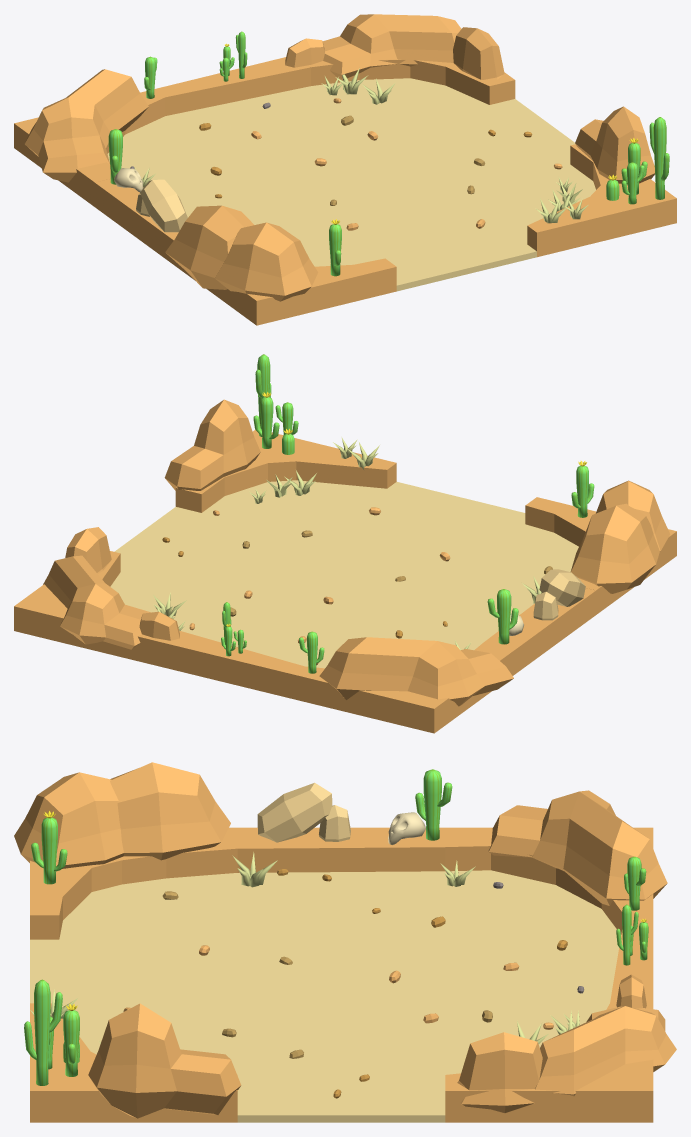
Rendered from desert level set - 2 Way (6).fbx.
3 renders of one model, top to bottom at view 1: azimuth 30°, elevation 25°; view 2: azimuth 150°, elevation 25°; view 3: azimuth 270°, elevation 25°, orthographic. The views are drawn at different scales.
Visible parts, largest first — view 1: land_platform_001, Cube_004, Cube_008, Cube_005, Cube_000, Cube_009, Cube_006, Cube_007, CACTUS_002, Cube_001, CACTUS_005, CACTUS_006 (+3 smaller); view 2: land_platform_001, Cube_004, Cube_000, Cube_008, Cube_009, Cube_005, Cube_007, Cube_006, CACTUS_006, Cube_001, CACTUS_001, CACTUS_005 (+2 smaller); view 3: land_platform_001, Cube_004, Cube_009, Cube_000, Cube_008, Cube_005, Cube_006, Cube_007, CACTUS_002, CACTUS_006, CACTUS_005, CACTUS_001 (+5 smaller).
Boxes of the visible parts, box(x1,y1,x2,y2) form: land_platform_001: box(14, 57, 676, 325); Cube_004: box(25, 69, 148, 182); Cube_008: box(322, 14, 461, 79); Cube_005: box(215, 222, 318, 301); Cube_000: box(165, 205, 254, 289); Cube_009: box(575, 106, 654, 183); Cube_006: box(453, 27, 504, 79); Cube_007: box(136, 179, 187, 232); CACTUS_002: box(649, 117, 669, 199); Cube_001: box(285, 38, 324, 67); CACTUS_005: box(329, 219, 341, 276); CACTUS_006: box(108, 129, 122, 184); land_platform_001: box(14, 429, 676, 733); Cube_004: box(319, 637, 513, 706); Cube_000: box(570, 503, 659, 593); Cube_008: box(43, 555, 151, 649); Cube_009: box(164, 399, 260, 490); Cube_005: box(596, 480, 670, 551); Cube_007: box(533, 569, 585, 620); Cube_006: box(65, 527, 111, 573); CACTUS_006: box(487, 589, 518, 644); Cube_001: box(139, 611, 179, 640); CACTUS_001: box(253, 392, 279, 448); CACTUS_005: box(571, 461, 594, 517); land_platform_001: box(30, 827, 653, 1122); Cube_004: box(488, 790, 667, 905); Cube_009: box(88, 1003, 241, 1118); Cube_000: box(110, 762, 230, 860); Cube_008: box(535, 1006, 676, 1096); Cube_005: box(14, 772, 123, 868); Cube_006: box(457, 1032, 542, 1112); Cube_007: box(257, 782, 350, 842); CACTUS_002: box(24, 979, 62, 1085); CACTUS_006: box(415, 769, 452, 840); CACTUS_005: box(31, 811, 67, 884); CACTUS_001: box(63, 1003, 79, 1076).
Size of the model in its own units: 16.66 by 3.87 by 16.14.
